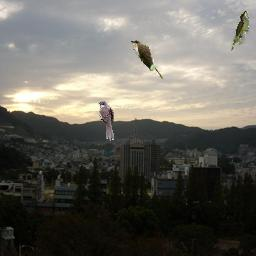Cuckoo: (131, 40, 164, 80), (231, 11, 249, 51), (98, 101, 114, 141)
